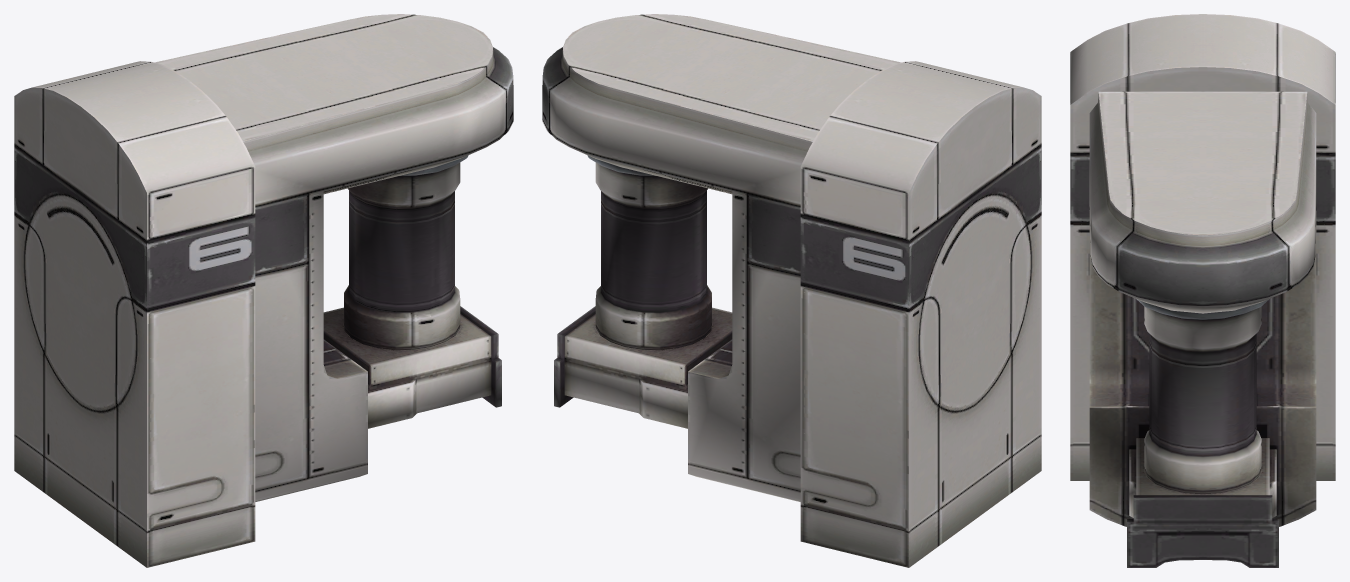
File: EquipmentLab03.FBX
3 views of the same model, side by side, from view 1: azimuth 30°, elevation 25°; view 2: azimuth 150°, elevation 25°; view 3: azimuth 270°, elevation 25° (orthographic).
Parts seen in each view (by area): view 1: EquipmentLab03; view 2: EquipmentLab03; view 3: EquipmentLab03.
Part boxes in pixels (x1=…): EquipmentLab03: x1=14, y1=14, x2=513, y2=567; EquipmentLab03: x1=542, y1=14, x2=1041, y2=567; EquipmentLab03: x1=1070, y1=14, x2=1335, y2=567.
Bounding box in the file's own units: 2.66 × 2.51 × 1.46.
